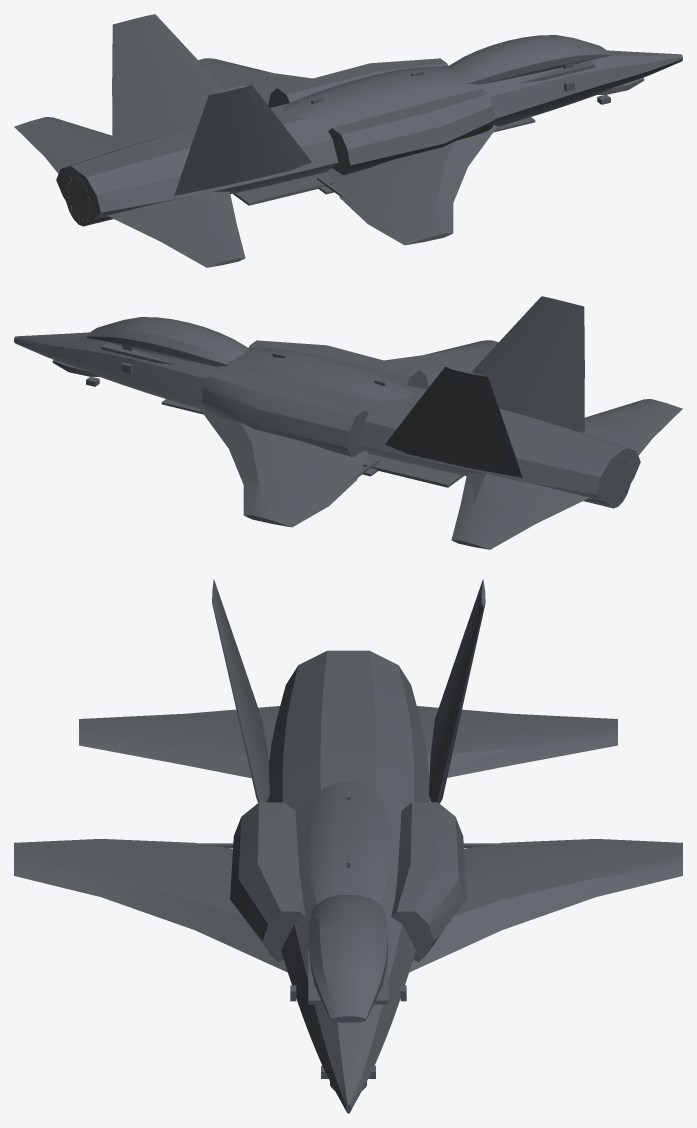
The model's file is f35_preview.obj.
3 views of the same model, one above another, from view 1: azimuth 30°, elevation 25°; view 2: azimuth 150°, elevation 25°; view 3: azimuth 270°, elevation 25° (orthographic). The views are drawn at different scales.
Size of the model in its own units: 15.55 by 3.63 by 10.67.
